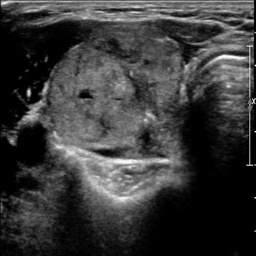mass: (45, 36, 179, 155)
